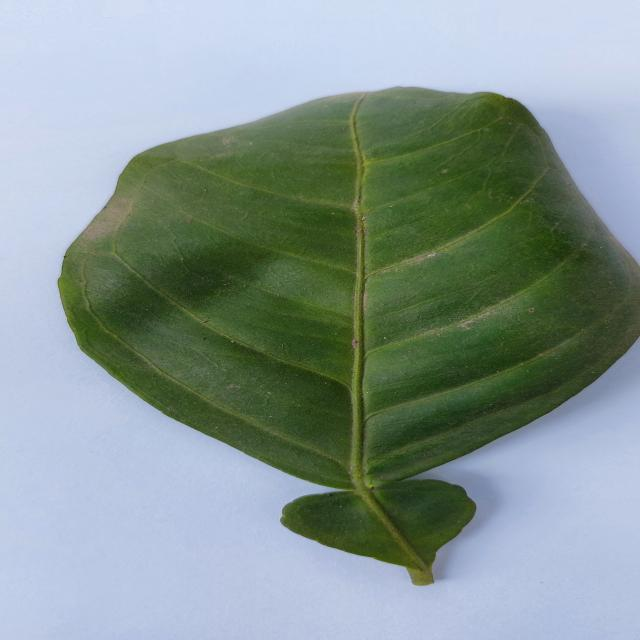greening: (60, 87, 640, 585)
